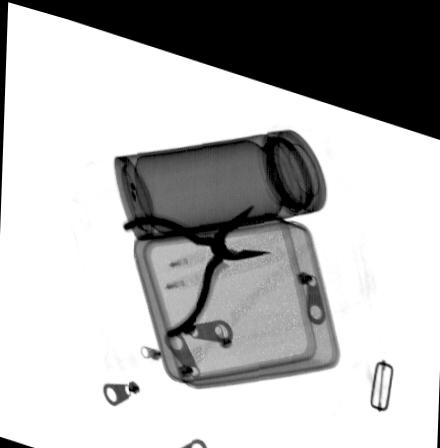Pliers: (122, 189, 273, 327)
